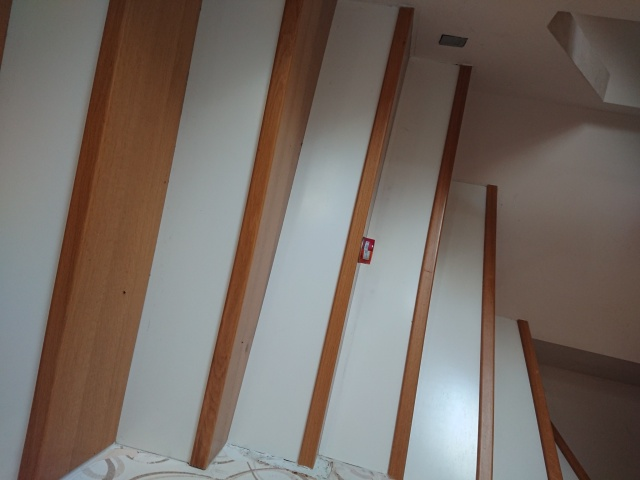Gavrilovic Pork Liver Pate 100g: (355, 235, 375, 265)
